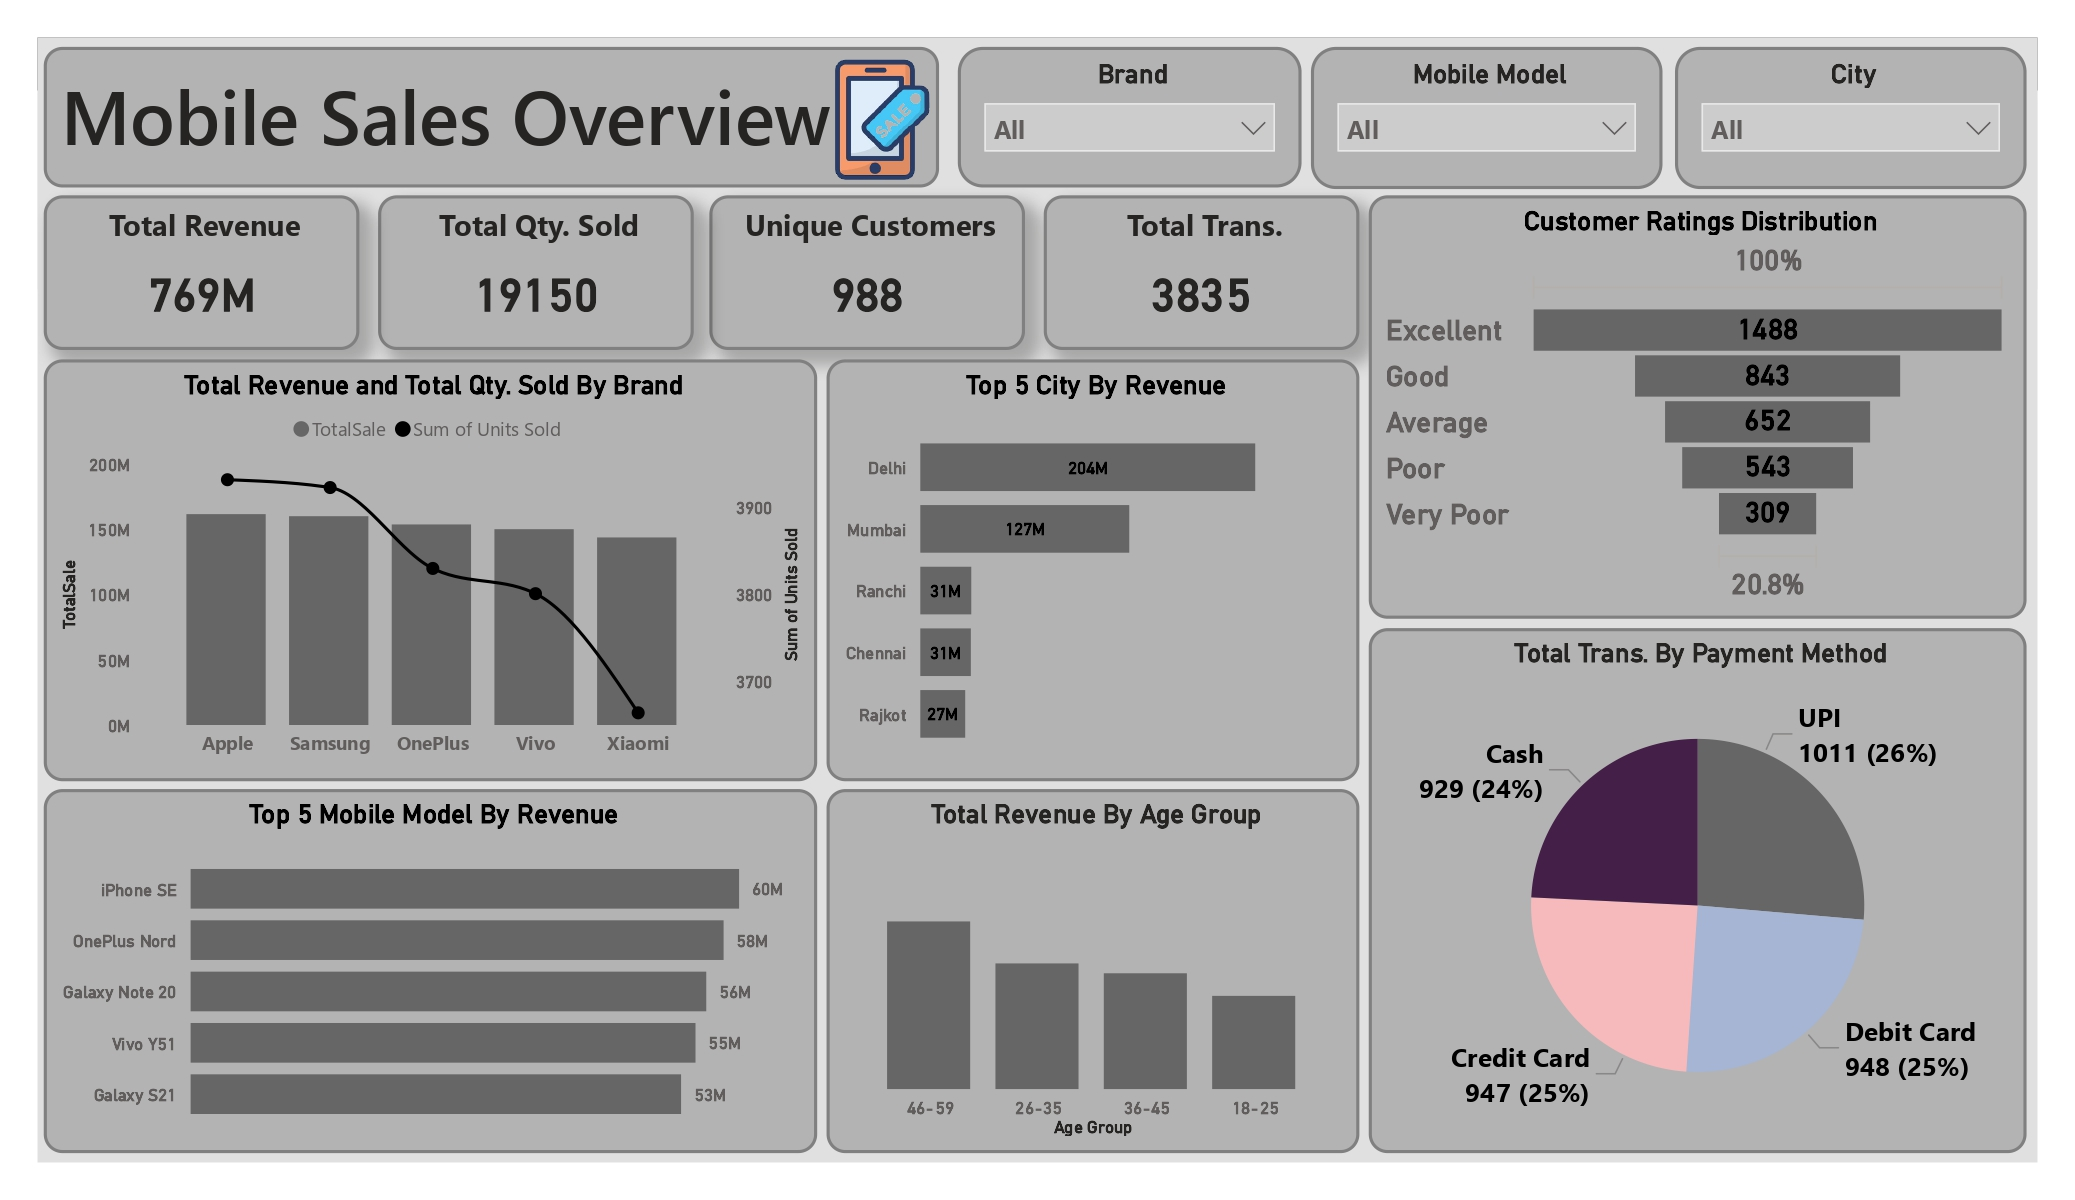

What the dashboard file says about the page in this screenshot:
{"tool":"powerbi","page":{"name":"Customer & Product Overview","canvas":[1280,720],"ordinal":1},"visuals":[{"type":"card","title":"Unique Customers","fields":{"Values":["Mobile_Sales_Data.Total Customers"]},"box":[430.2,101,202,99.5],"z":0},{"type":"card","title":"Total Qty. Sold","fields":{"Values":["Sum(Mobile_Sales_Data.Units Sold)"]},"box":[218,101,202,99.5],"z":1000},{"type":"card","title":"Total Trans.","fields":{"Values":["CountNonNull(Mobile_Sales_Data.Transaction ID)"]},"box":[643.9,101,202,99.5],"z":2000},{"type":"card","title":"Total Revenue","fields":{"Values":["Mobile_Sales_Data.TotalSale"]},"box":[4.4,101,202,99.5],"z":3000},{"type":"slicer","title":"Brand","fields":{"Values":["Mobile_Sales_Data.Brand"]},"box":[589,5.8,220.3,90.7],"z":4000},{"type":"slicer","title":"Mobile Model","fields":{"Values":["Mobile_Sales_Data.Mobile Model"]},"box":[815.1,5.9,225.4,90.7],"z":5000},{"type":"pieChart","title":"Total Trans. By Payment Method","fields":{"Category":["Mobile_Sales_Data.Payment Method"],"Y":["CountNonNull(Mobile_Sales_Data.Transaction ID)"]},"box":[851.7,377.6,421.5,336.6],"z":6000},{"type":"lineStackedColumnComboChart","title":"Total Revenue and Total Qty. Sold By Brand","fields":{"Category":["Mobile_Sales_Data.Brand"],"Y":["Mobile_Sales_Data.TotalSale"],"Y2":["Sum(Mobile_Sales_Data.Units Sold)"]},"box":[4.4,206.3,494.6,269.3],"z":7000},{"type":"clusteredBarChart","title":"Top 5 Mobile Model By Revenue","fields":{"Category":["Mobile_Sales_Data.Mobile Model"],"Y":["Mobile_Sales_Data.TotalSale"]},"box":[4.4,481.5,494.6,232.7],"z":8000},{"type":"textbox","box":[4.3,5.8,573,90.7],"z":9000},{"type":"image","box":[501.1,11.5,79.2,80.6],"z":10000},{"type":"barChart","title":"Top 5 City By Revenue","fields":{"Category":["Mobile_Sales_Data.City"],"Y":["Mobile_Sales_Data.TotalSale"]},"box":[504.9,206.3,341,269.3],"z":11000},{"type":"slicer","title":"City","fields":{"Values":["Mobile_Sales_Data.City"]},"box":[1047.8,5.9,225.4,90.7],"z":12000},{"type":"funnel","title":" Customer Ratings Distribution","fields":{"Y":["CountNonNull(Mobile_Sales_Data.Customer Ratings)","select"],"Category":["Mobile_Sales_Data.Customer Ratings Category"]},"box":[851.7,101,421.5,270.7],"z":13000},{"type":"columnChart","title":"Total Revenue By Age Group","fields":{"Category":["Mobile_Sales_Data.Age Group"],"Y":["Mobile_Sales_Data.TotalSale"]},"box":[504.9,481.5,341,232.7],"z":14000}]}

Visuals, with their boxes in screenshot pixels (x1, y1, x2, y2):
"Unique Customers" card: 710:195:1025:351
"Total Qty. Sold" card: 378:195:694:351
"Total Trans." card: 1044:195:1359:351
"Total Revenue" card: 44:195:360:351
"Brand" slicer: 958:47:1302:188
"Mobile Model" slicer: 1311:47:1663:188
"Total Trans. By Payment Method" pieChart: 1368:628:2027:1153
"Total Revenue and Total Qty. Sold By Brand" lineStackedColumnComboChart: 44:360:817:781
"Top 5 Mobile Model By Revenue" clusteredBarChart: 44:790:817:1153
textbox: 44:47:940:188
image: 820:55:944:181
"Top 5 City By Revenue" barChart: 826:360:1359:781
"City" slicer: 1675:47:2027:188
" Customer Ratings Distribution" funnel: 1368:195:2027:618
"Total Revenue By Age Group" columnChart: 826:790:1359:1153
